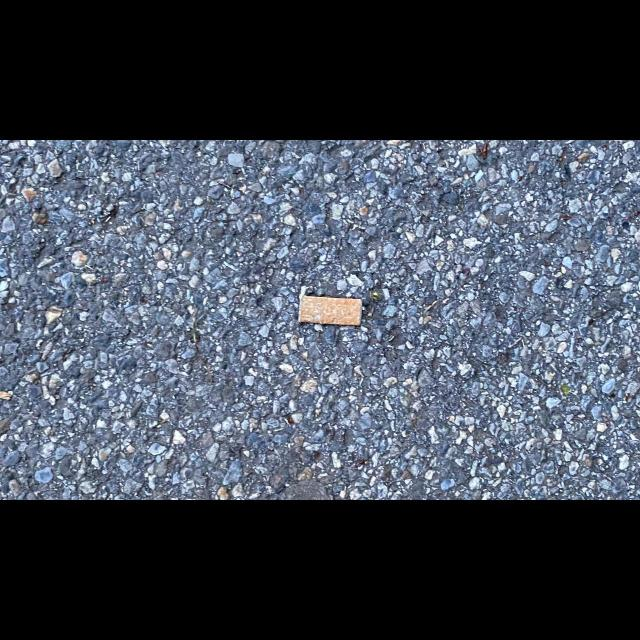cigarette: (298, 296, 362, 326)
